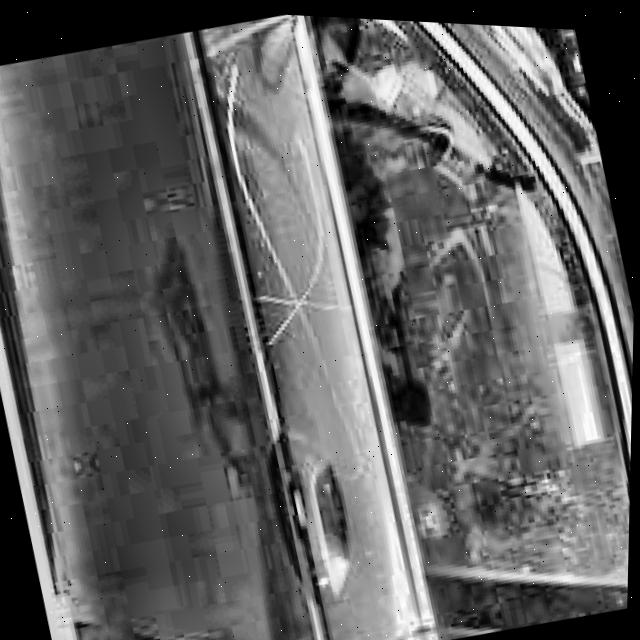door_scratch: (188, 37, 363, 363)
